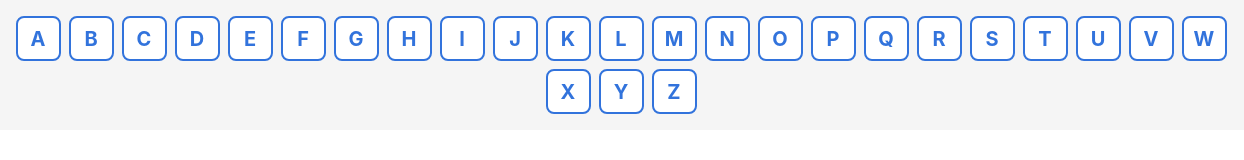
Test: AlphabetDisplay › Integration › should work with controller that processes clicks and disables letters
This screenshot has width=1244, height=160.
Click the button with class "letter-button" showing "E": {"x": 250, "y": 38} [228,16,272,61]
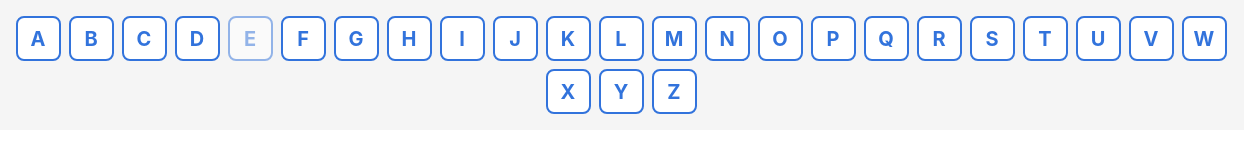
Click the button with class "letter-button" showing "T": {"x": 1045, "y": 38} [1022,16,1068,61]
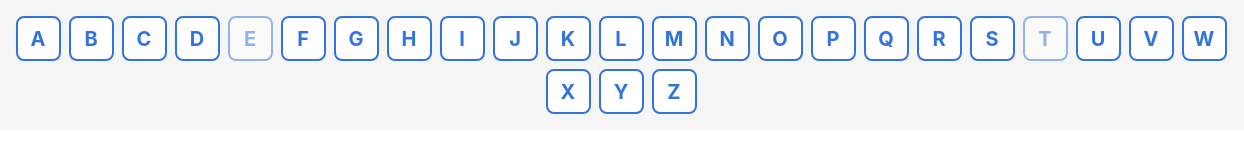
Check: the button with class "letter-button" showing "E" is disabled, box [228,16,272,61]
Check: the button with class "letter-button" showing "T" is disabled, box [1022,16,1068,61]
